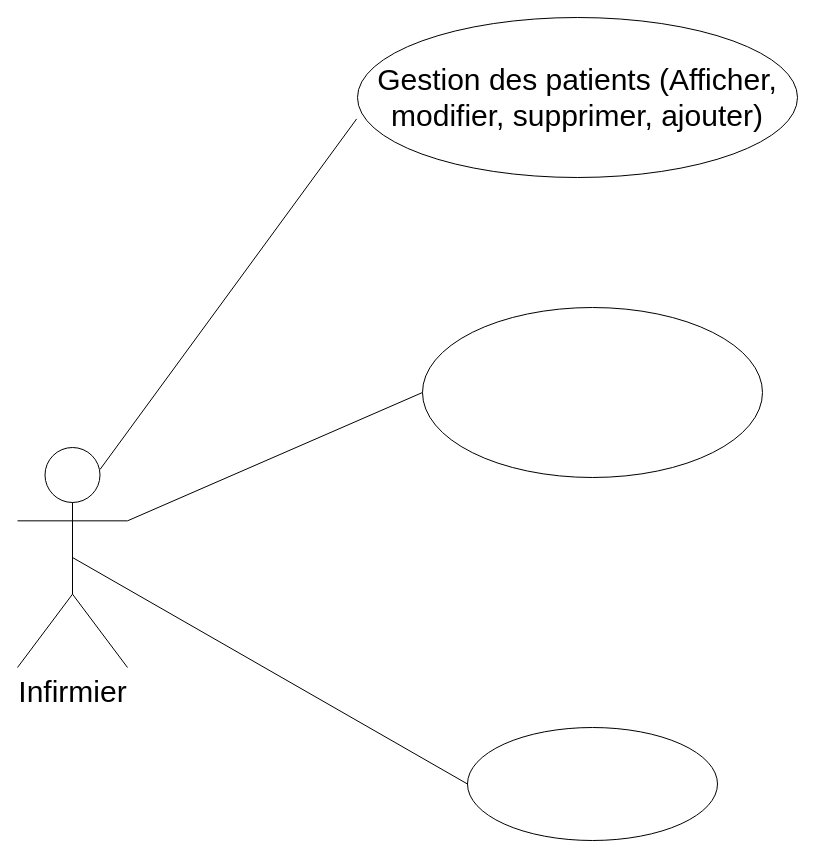
Image size: 815x858. Some labels were removed from this diagram. Each missing label, with the box of its shape:
Gestion des séjours (Afficher, ajouter, modifier et supprimer): (422, 306, 762, 478)
Mettre fin à un séjour: (466, 726, 718, 840)
